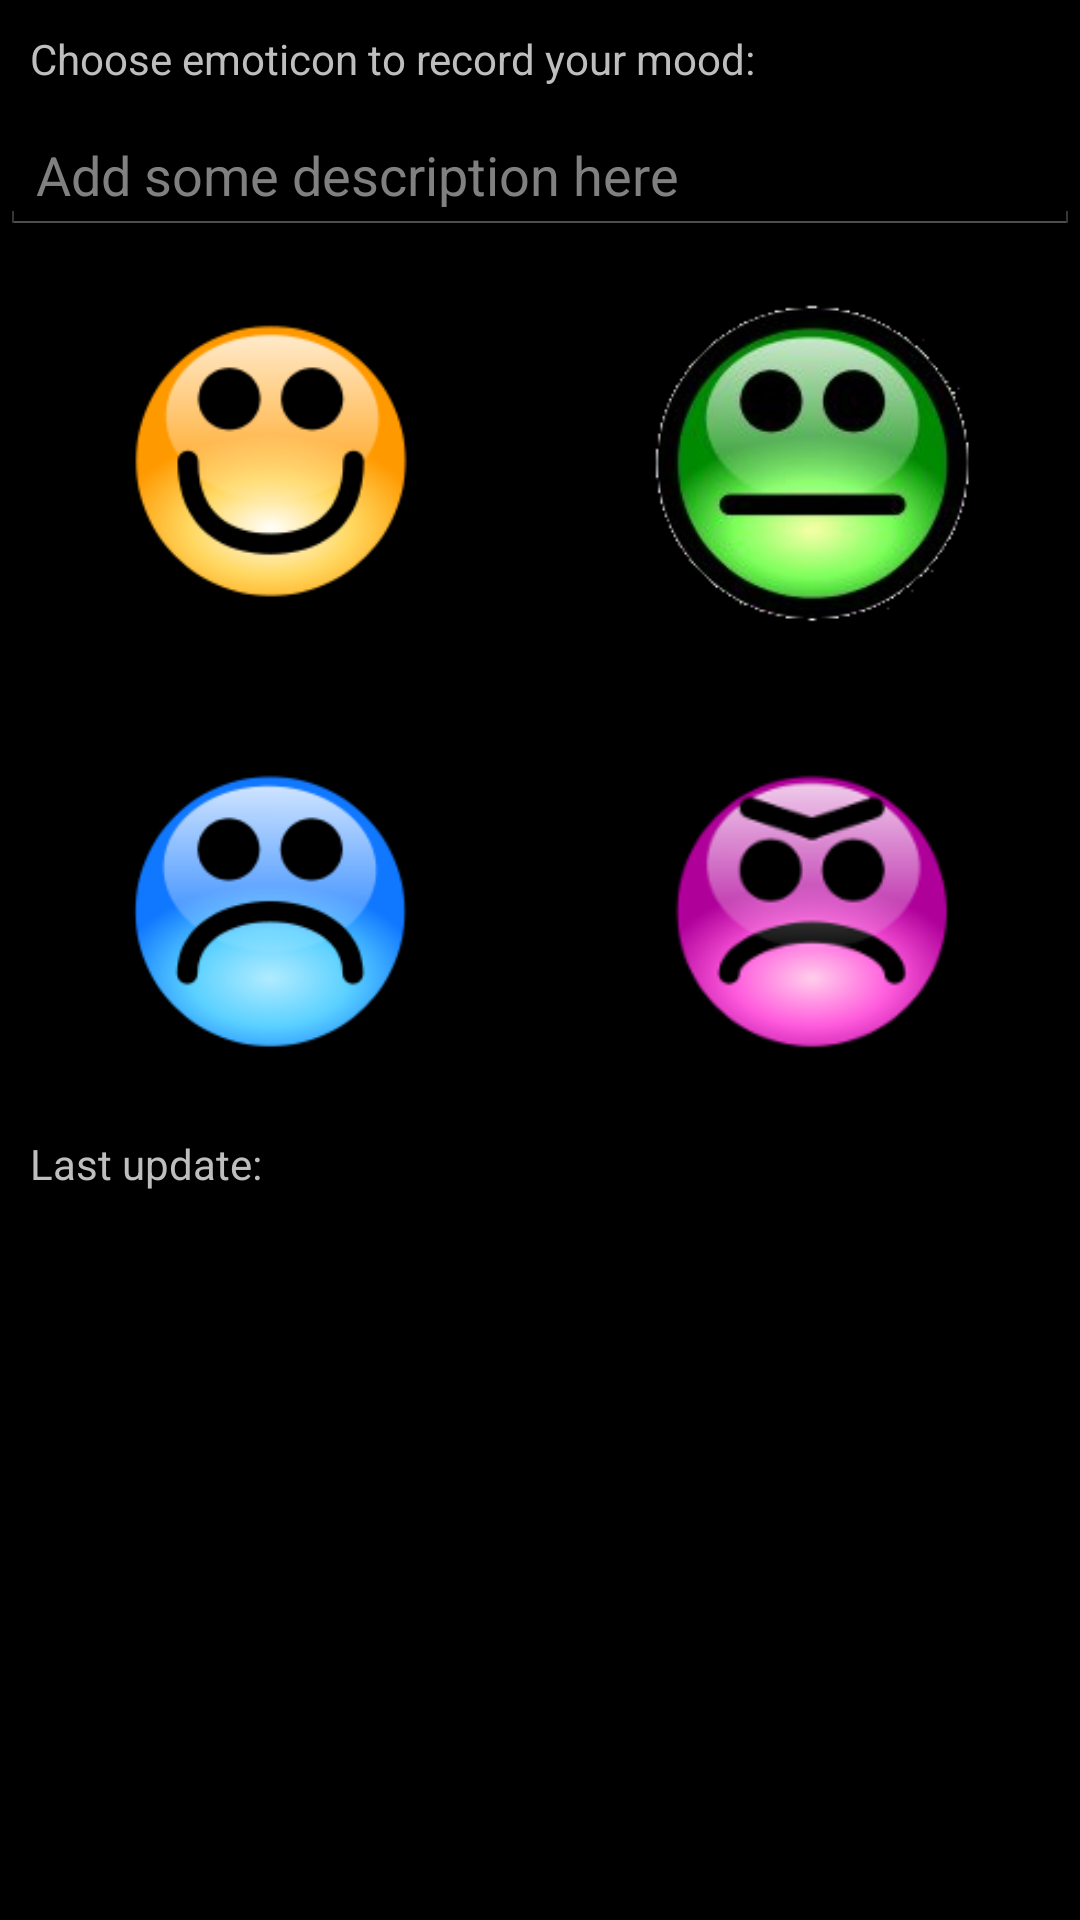

Screen size 1080w x 1920h. Icon name, then its box in pixels as box=[x1, y1, x2, y2]:
angry face: box=[676, 775, 948, 1048]
face neutral: box=[655, 305, 969, 621]
face sad: box=[134, 775, 407, 1047]
happy face: box=[135, 325, 407, 597]
